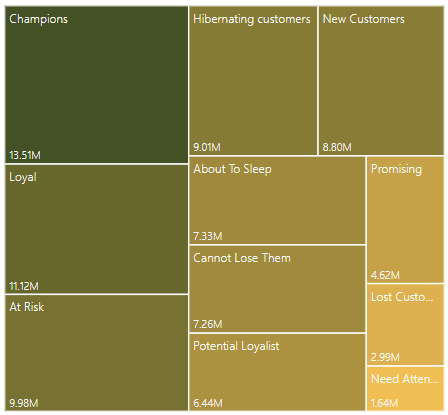

The dashboard page shown, as its layout file describes it:
{"tool":"powerbi","page":{"name":"Customer Segment","canvas":[1280,720],"ordinal":2},"visuals":[{"type":"slicer","fields":{"Values":["RFM_Segment.Segment"]},"box":[759.2,28.8,163.1,64.7],"z":0,"group":"g2"},{"type":"cardVisual","title":"Total Customer","fields":{"Data":["CountNonNull(Customer._CustomerID)"]},"box":[30.4,146.4,119.9,82.4],"z":0,"group":"g1"},{"type":"textbox","box":[33.4,316.7,384.7,73.9],"z":0,"group":"g3"},{"type":"tableEx","fields":{"Values":["Customer._CustomerID","Customer.Name","RFM_Segment.Segment","Calculations.Average Profit per Order","Calculations.Total Profit"]},"box":[30,484.8,707.9,187.4],"z":0},{"type":"textbox","box":[30.4,19.9,707.9,81.2],"z":1000,"group":"g4"},{"type":"slicer","fields":{"Values":["US_Regional_Sales_Data (2).Season"]},"box":[922.8,29.2,168.2,64.5],"z":1000,"group":"g2"},{"type":"slicer","fields":{"Values":["US_Regional_Sales_Data.OrderDate"]},"box":[758.9,98.2,492.9,91.1],"z":1000},{"type":"cardVisual","title":"AVG Profit","fields":{"Data":["Calculations.Average Profit per Order"]},"box":[150.3,146.4,195.3,82.4],"z":1000,"group":"g1"},{"type":"shape","box":[30.8,290.4,390.4,119.2],"z":1000,"group":"g3"},{"type":"slicer","fields":{"Values":["US_Regional_Sales_Data (2).Sales Channel"]},"box":[1087.2,27.6,164.8,64.5],"z":2000,"group":"g2"},{"type":"group","id":"g1","title":"Group 1","box":[30.4,146.4,707.1,83.9],"z":2000},{"type":"cardVisual","title":"AVG Order Quantity","fields":{"Data":["CountNonNull(US_Regional_Sales_Data.OrderNumber)"]},"box":[345.6,146.4,195.3,82.4],"z":2000,"group":"g1"},{"type":"cardVisual","title":" AVG Order Quantity","fields":{"Data":["Calculations.Avg Order Quantity"]},"box":[541.5,146.4,194.8,81.8],"z":3000,"group":"g1"},{"type":"treemap","title":"\"Which is our focused group\"","fields":{"Values":["Sum(US_Regional_Sales_Data.Revenue)"],"Group":["RFM_Segment.Segment"]},"box":[756.8,225.7,482.4,445.9],"z":3000},{"type":"group","id":"g2","title":"Group 2","box":[759.2,27.6,492.1,65.8],"z":4000},{"type":"pieChart","fields":{"Category":["Customer.Sex"],"Y":["Calculations.Total Profit"]},"box":[412,230.4,326.1,241.3],"z":5000},{"type":"group","id":"g3","title":"Group 3","box":[30.8,290.4,390.4,119.2],"z":6000},{"type":"group","id":"g4","title":"Group 4","box":[30.4,19.9,707.9,81.2],"z":7000},{"type":"actionButton","box":[1198.4,680.6,33.4,29.1],"z":8000}]}

Visuals, with their boxes on the page's 1280x720 design canvas (x1, y1, x2, y2). These are canvas units, not pixel positions in the 448x415 screenshot, which may show the page scaled, cropped or inside an application window:
slicer - RFM_Segment.Segment: bbox=(759, 29, 922, 94)
"Total Customer" cardVisual: bbox=(30, 146, 150, 229)
textbox: bbox=(33, 317, 418, 391)
tableEx - Customer._CustomerID x Customer.Name: bbox=(30, 485, 738, 672)
textbox: bbox=(30, 20, 738, 101)
slicer - US_Regional_Sales_Data (2).Season: bbox=(923, 29, 1091, 94)
slicer - US_Regional_Sales_Data.OrderDate: bbox=(759, 98, 1252, 189)
"AVG Profit" cardVisual: bbox=(150, 146, 346, 229)
shape: bbox=(31, 290, 421, 410)
slicer - US_Regional_Sales_Data (2).Sales Channel: bbox=(1087, 28, 1252, 92)
"Group 1" group: bbox=(30, 146, 738, 230)
"AVG Order Quantity" cardVisual: bbox=(346, 146, 541, 229)
" AVG Order Quantity" cardVisual: bbox=(542, 146, 736, 228)
""Which is our focused group"" treemap: bbox=(757, 226, 1239, 672)
"Group 2" group: bbox=(759, 28, 1251, 93)
pieChart - Customer.Sex x Calculations.Total Profit: bbox=(412, 230, 738, 472)
"Group 3" group: bbox=(31, 290, 421, 410)
"Group 4" group: bbox=(30, 20, 738, 101)
actionButton: bbox=(1198, 681, 1232, 710)
